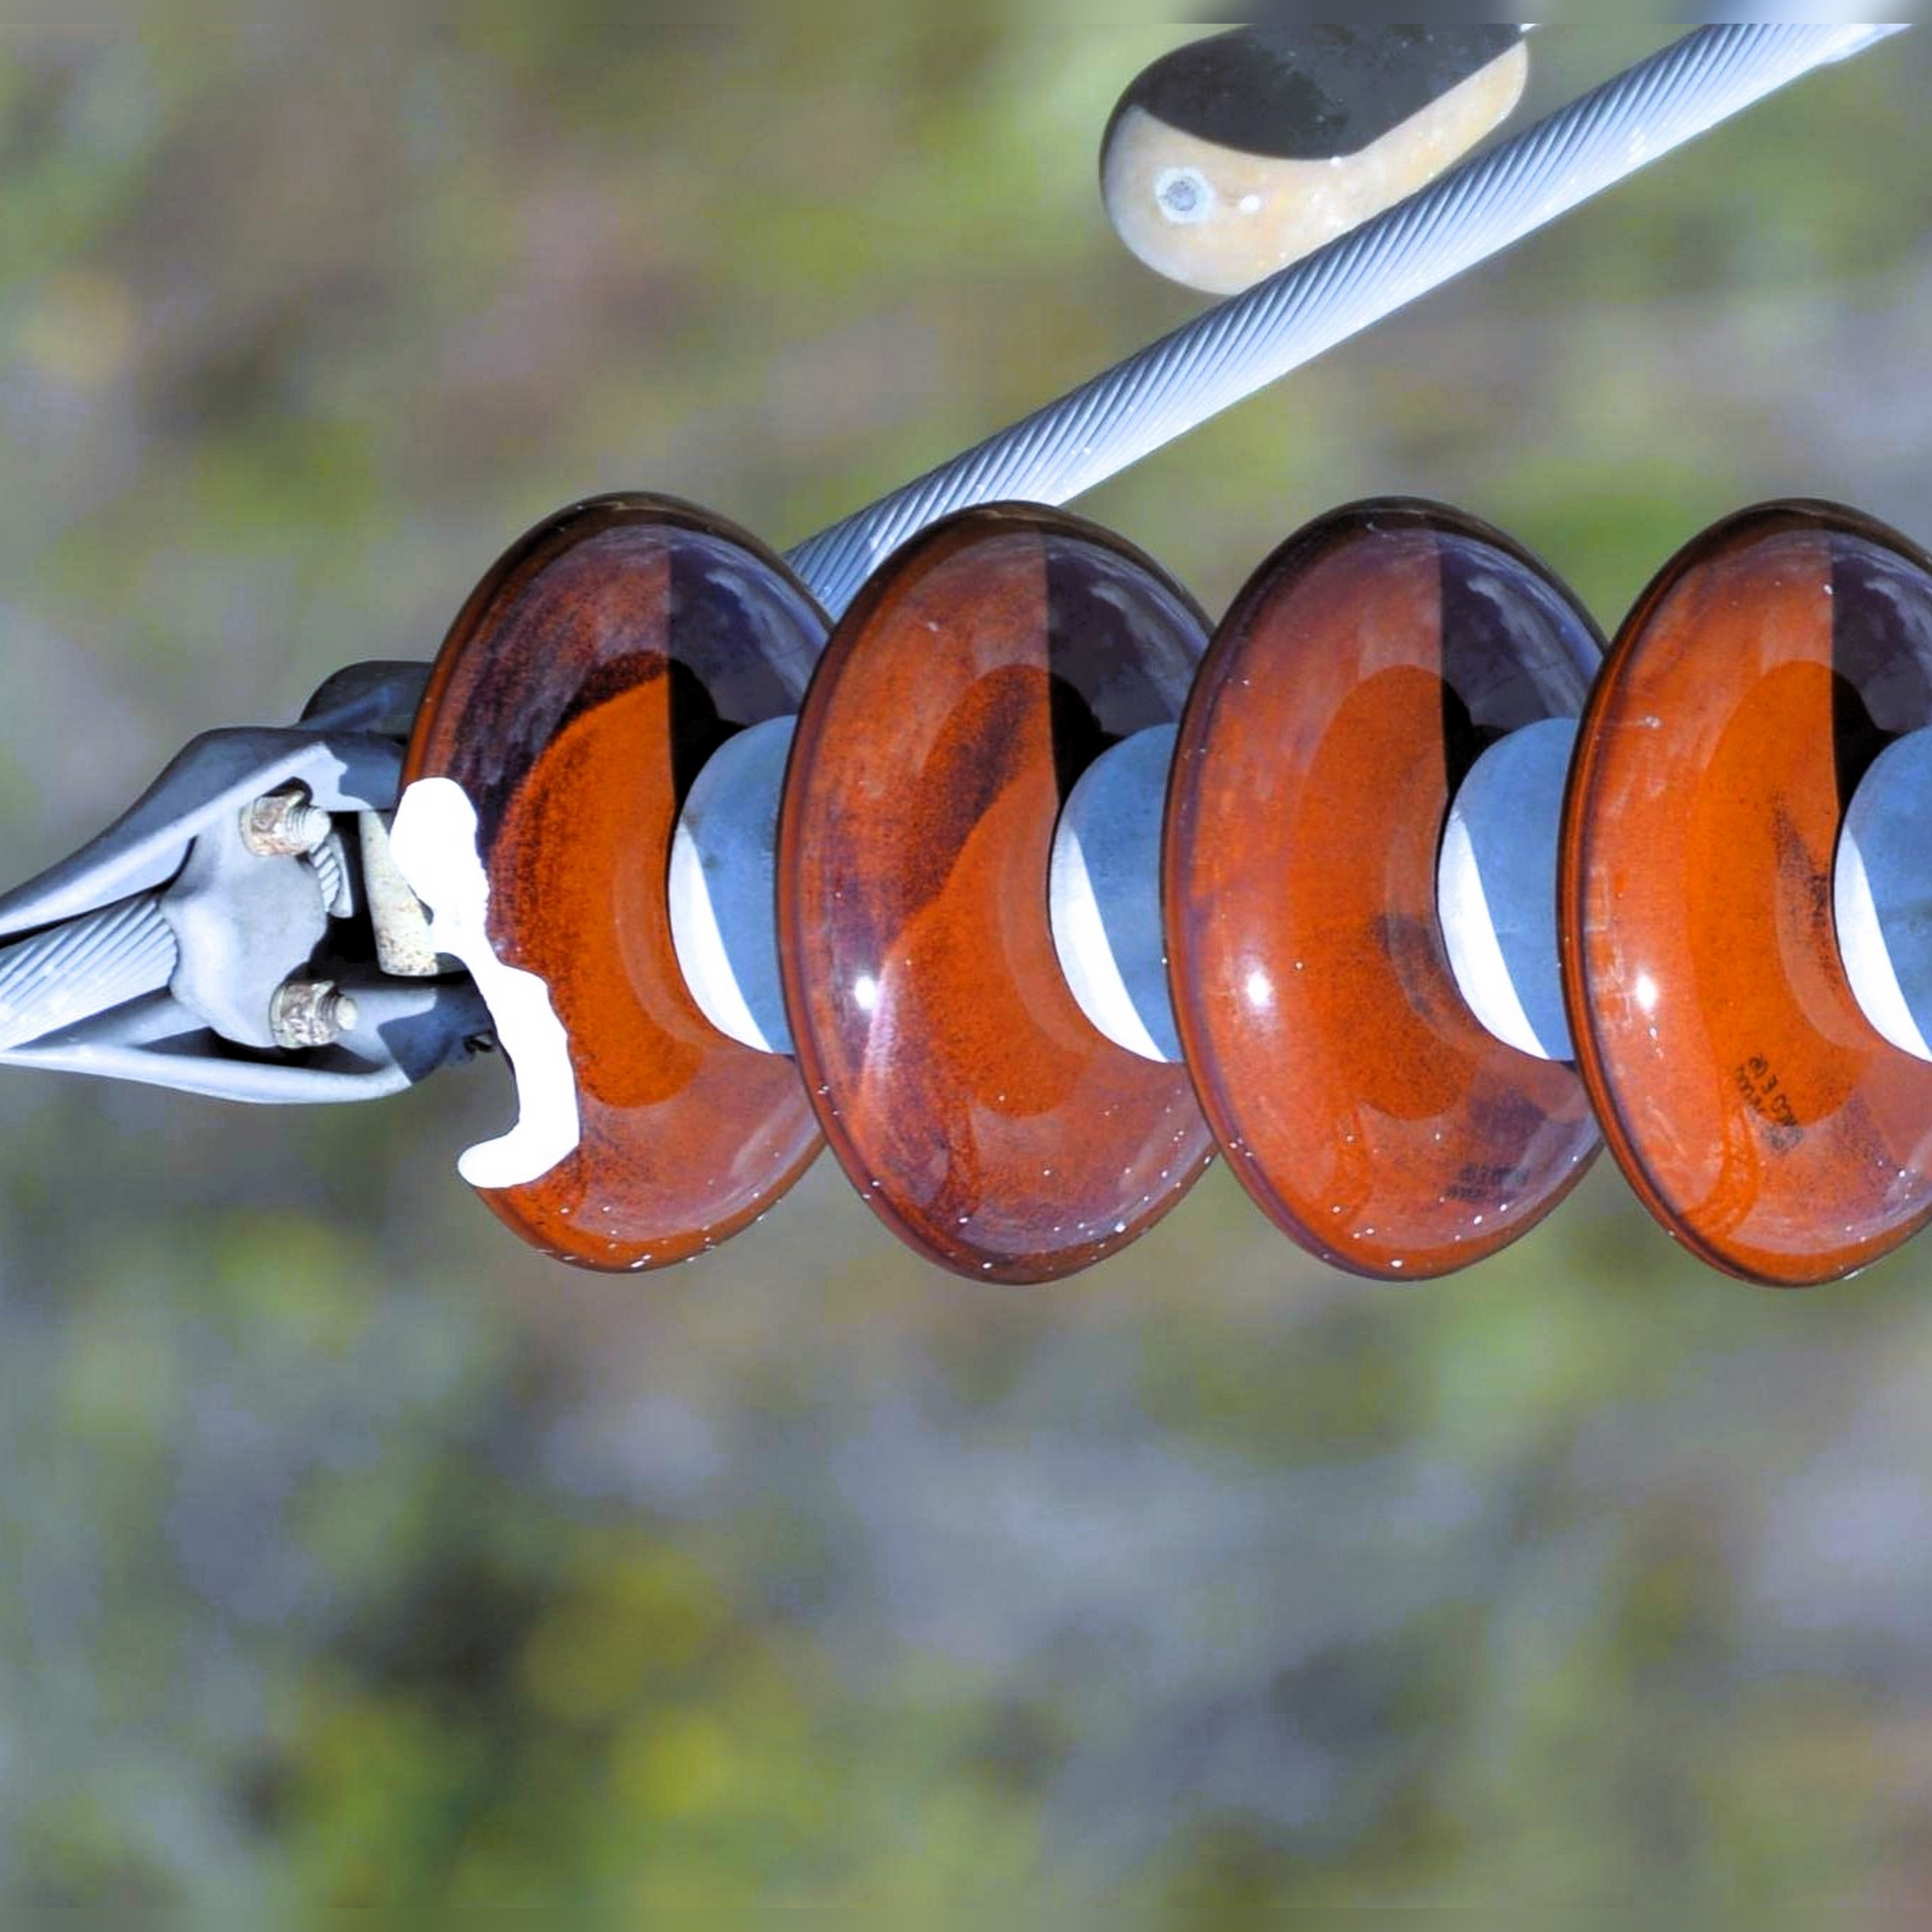insulator breakage: (377, 456, 821, 1295)
